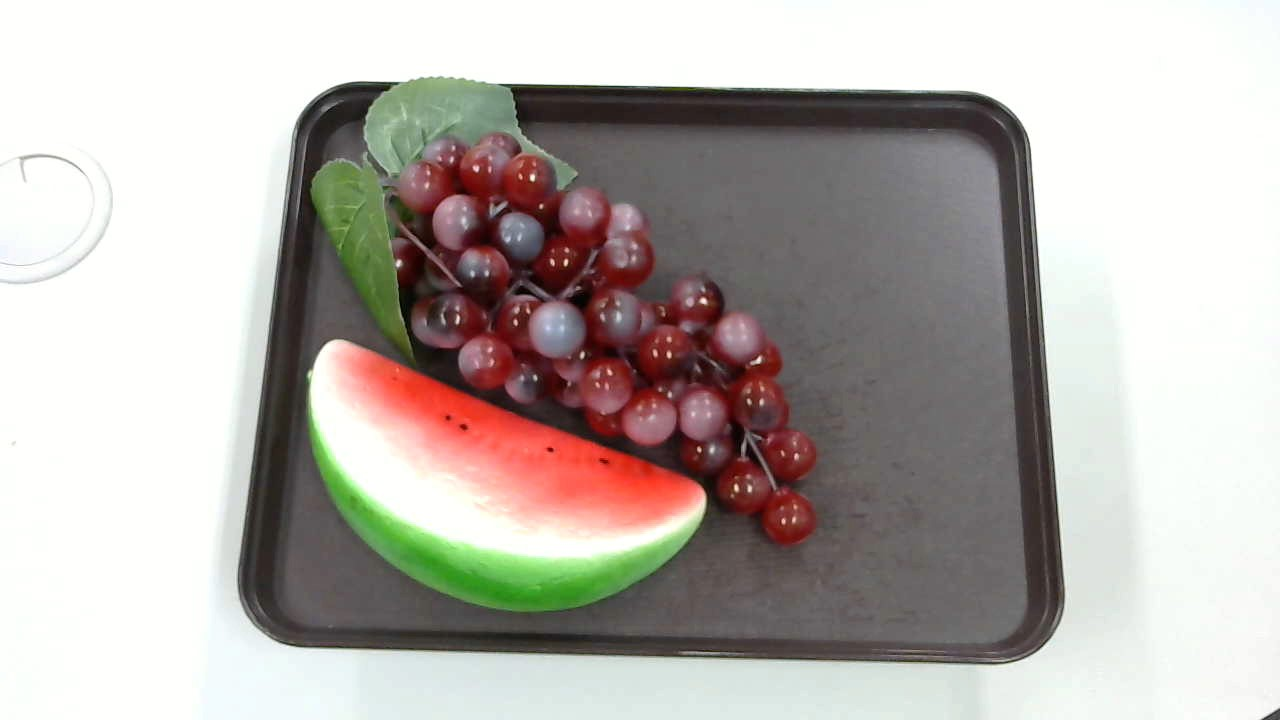grape: (303, 76, 820, 551)
water melon: (308, 332, 705, 610)
